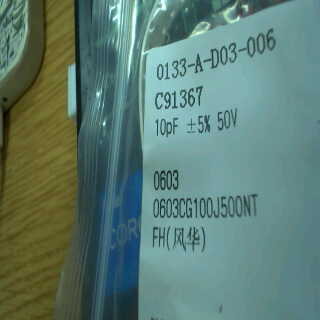10pF: (152, 113, 182, 146)
